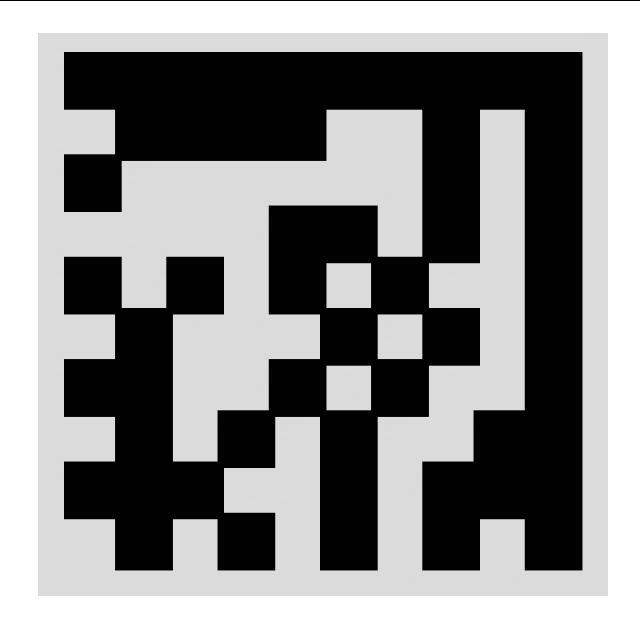Data-Matrix: (38, 32, 608, 595)
